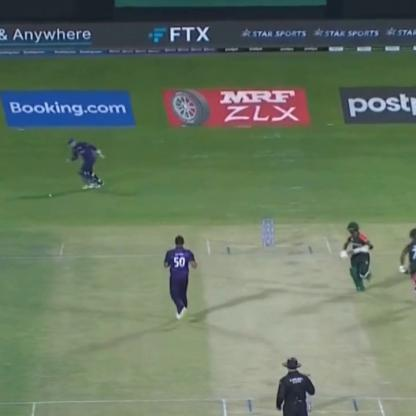ball: (43, 187, 57, 200)
pitch: (182, 226, 393, 413)
